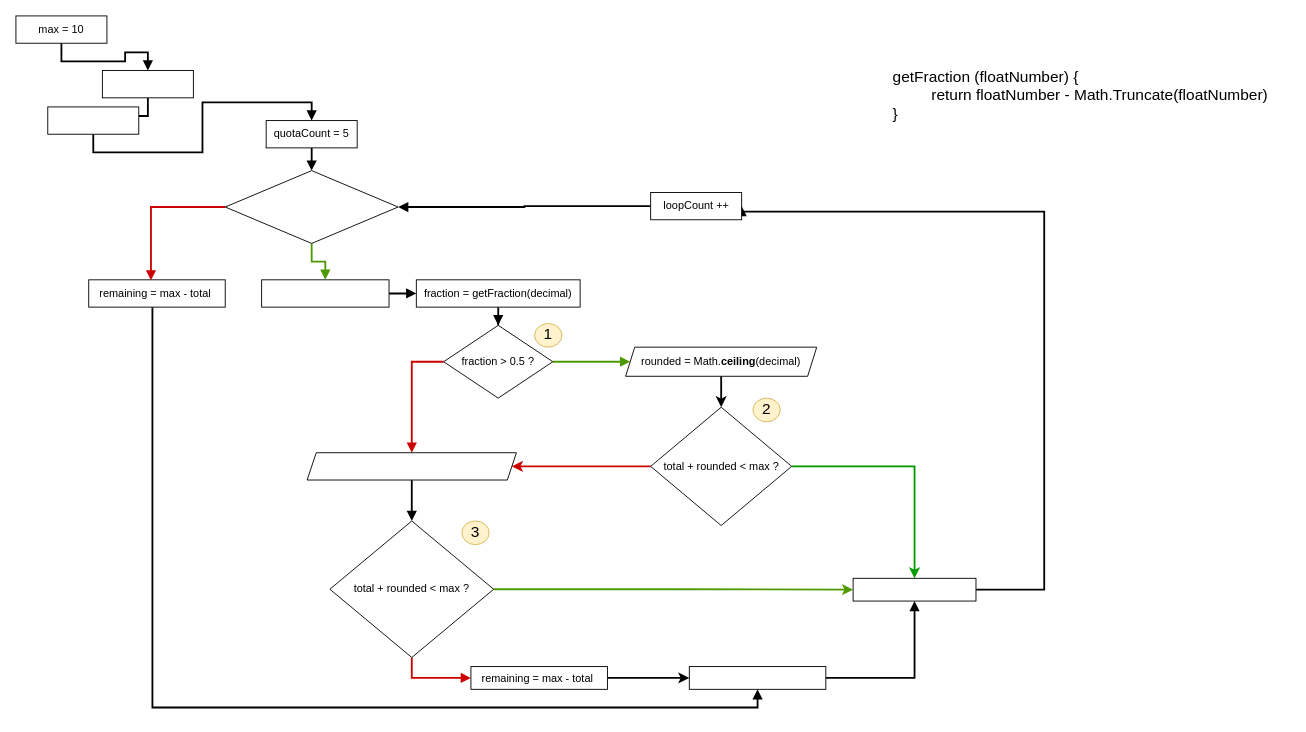
The diagram is 1306 pixels wide and 732 high, and some of its shapes have lost their labels. Each missing label, with the centre of its shape:
"decimal = 3.51" goes at (325,293).
"loopCount < quotaCount" goes at (311,206).
"loopCount = 1" goes at (93,120).
"rounded = Math. floor (decimal)" goes at (411,466).
"rounded = remaining" goes at (757,677).
"total = 0" goes at (147,84).
"total = total + rounded" goes at (914,589).
